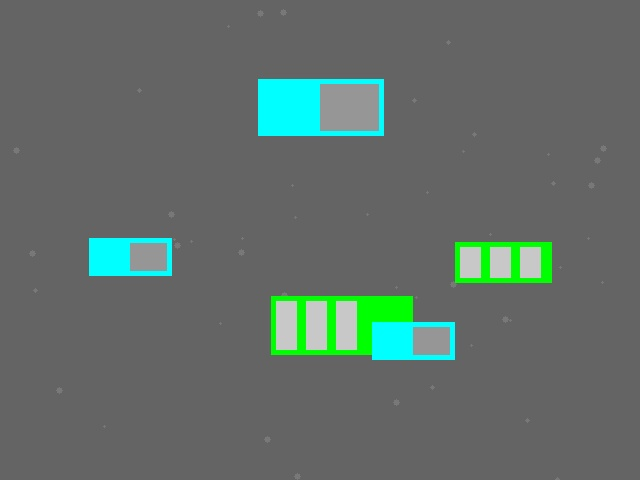bus: (271, 296, 412, 354), (455, 242, 551, 282)
truck: (258, 79, 383, 135), (89, 238, 171, 275), (372, 322, 454, 359)
